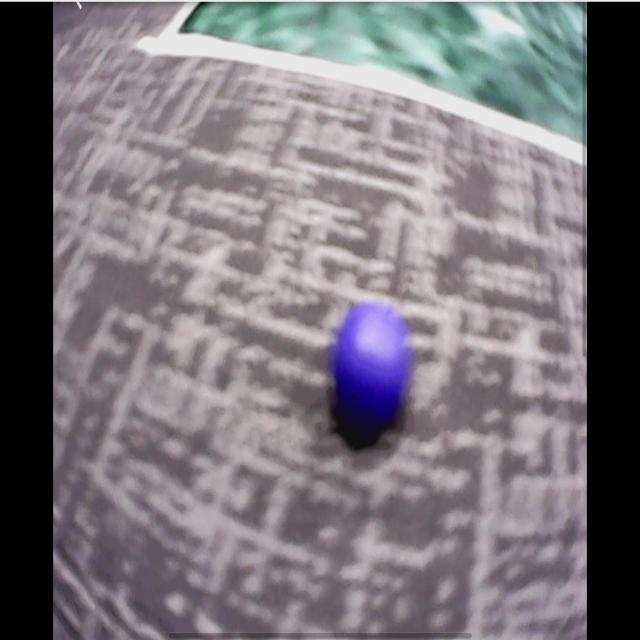ball: (340, 310, 407, 411)
